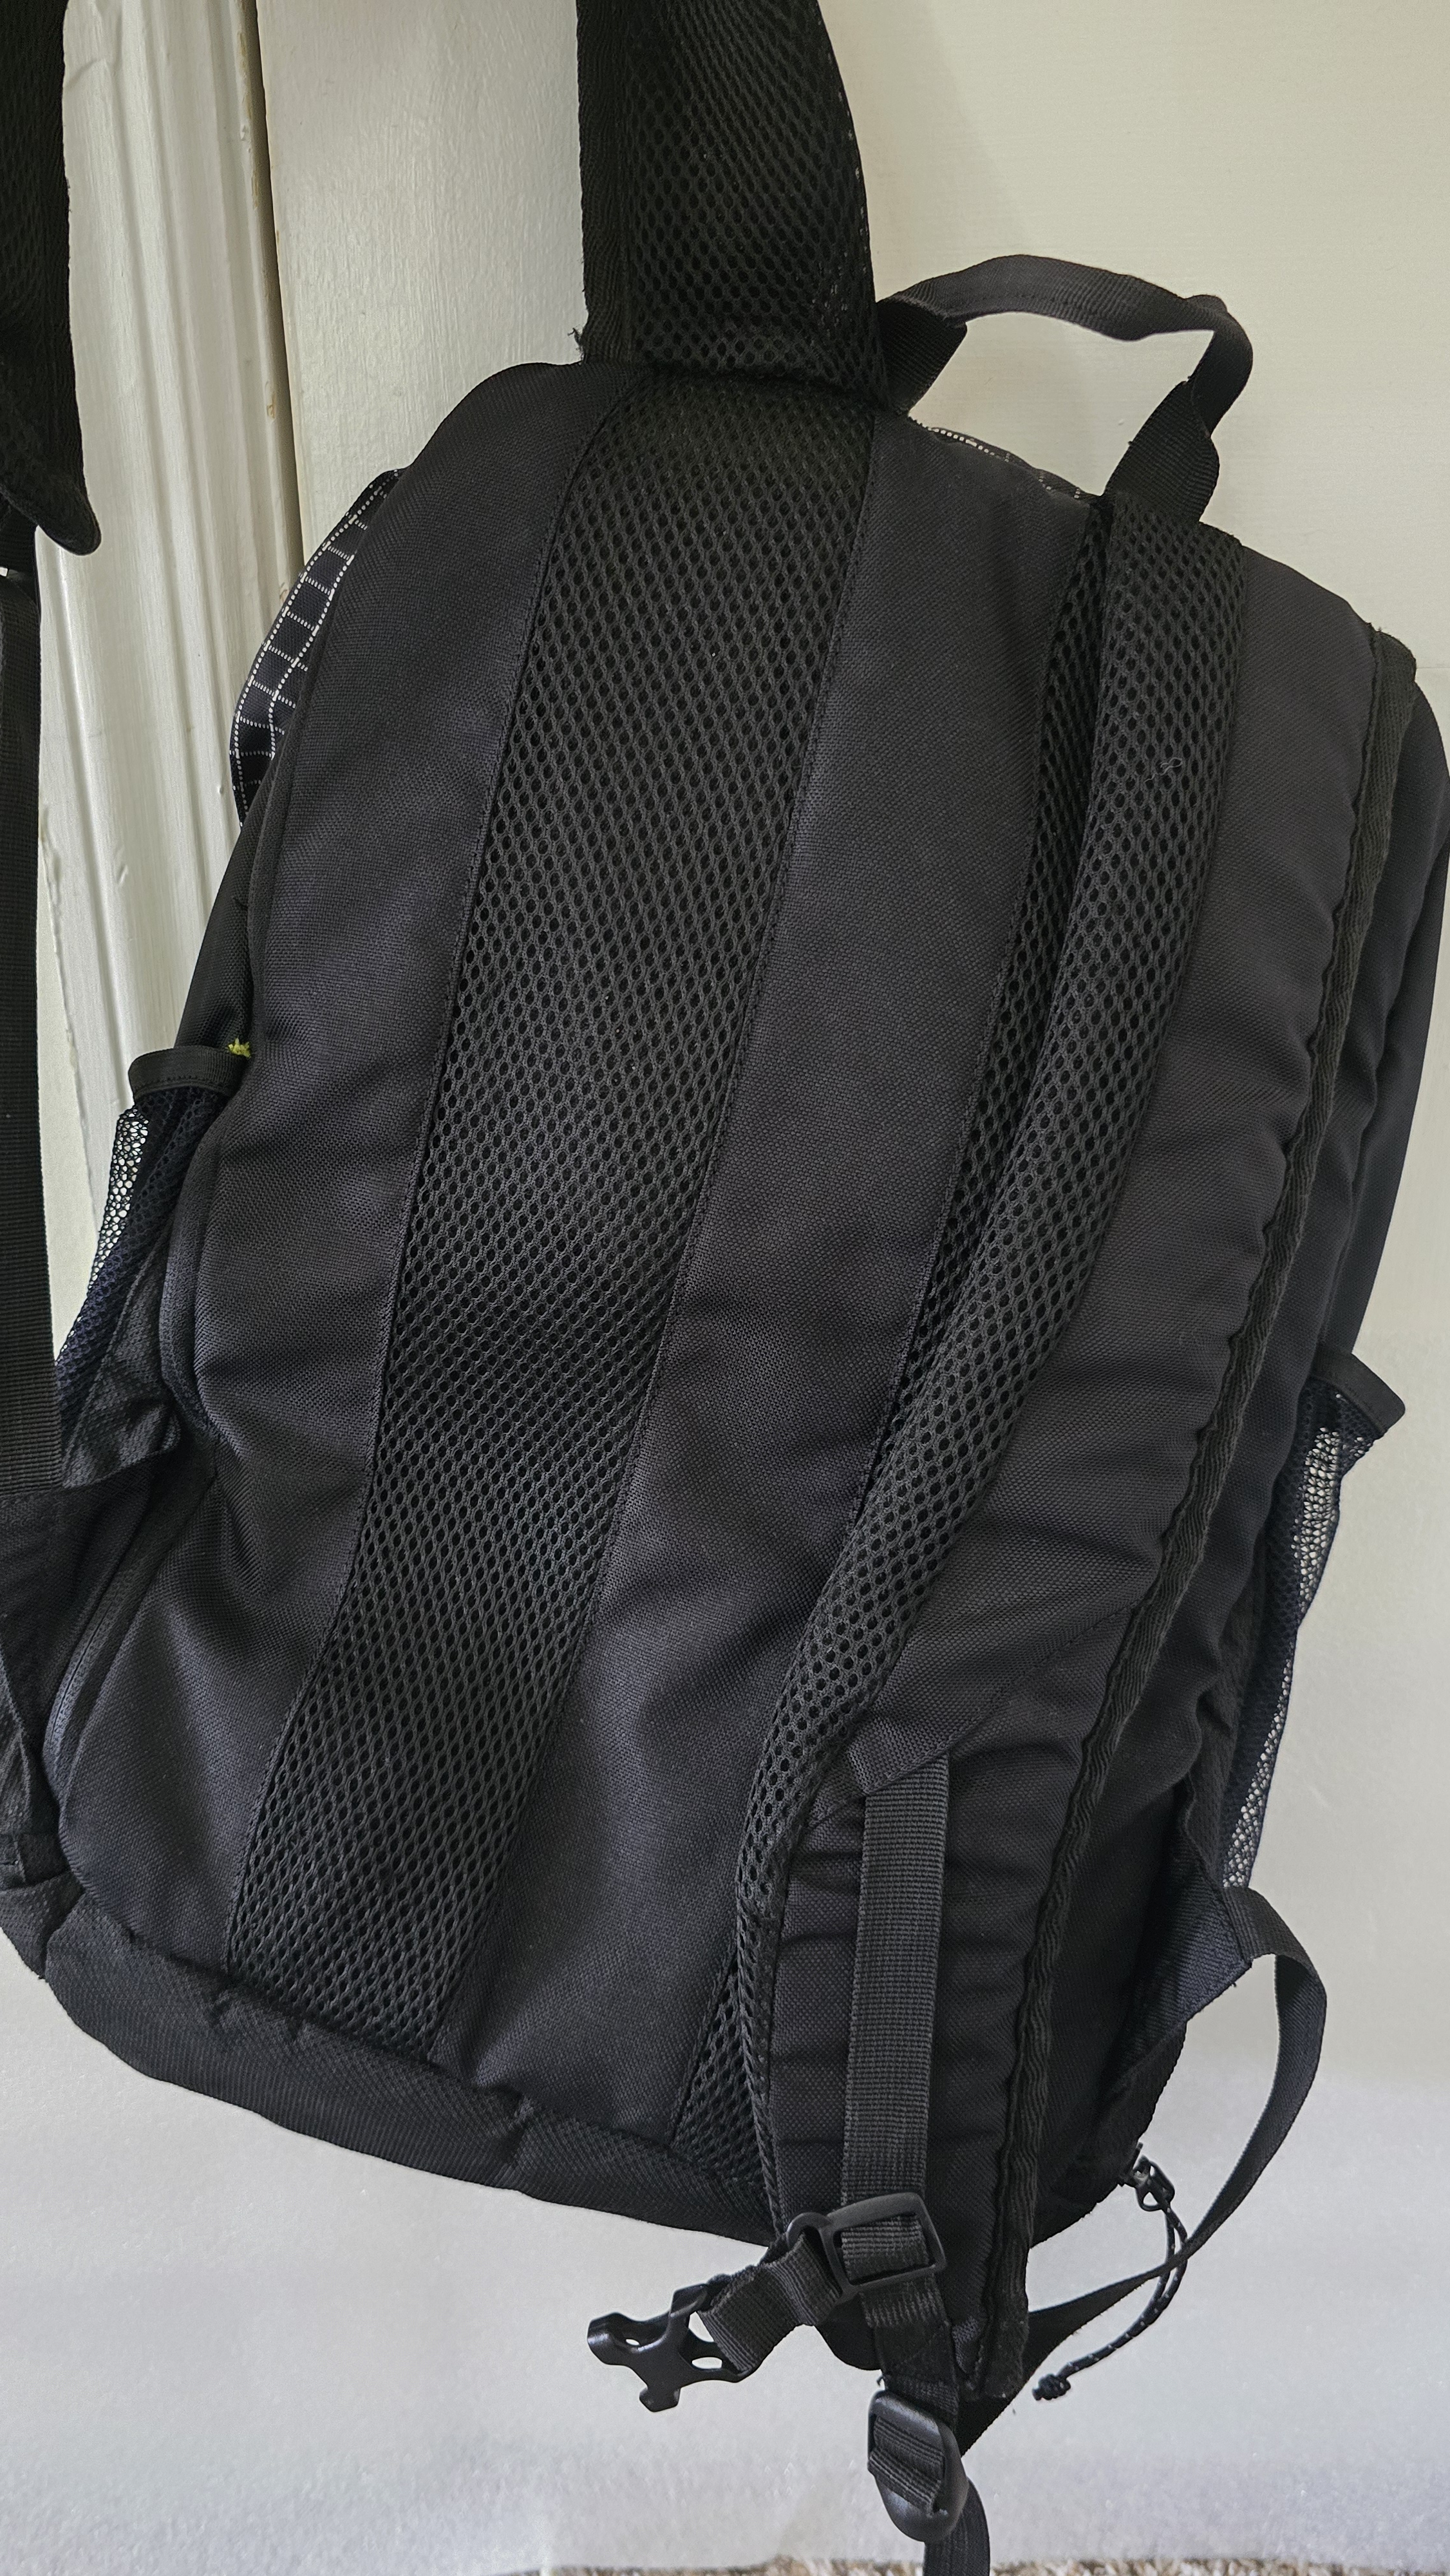bag: (1, 3, 1429, 2388)
